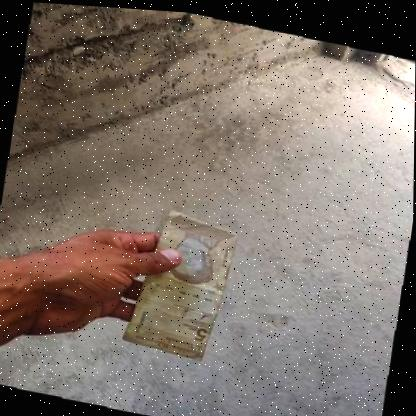five-front-vef: (122, 199, 241, 363)
